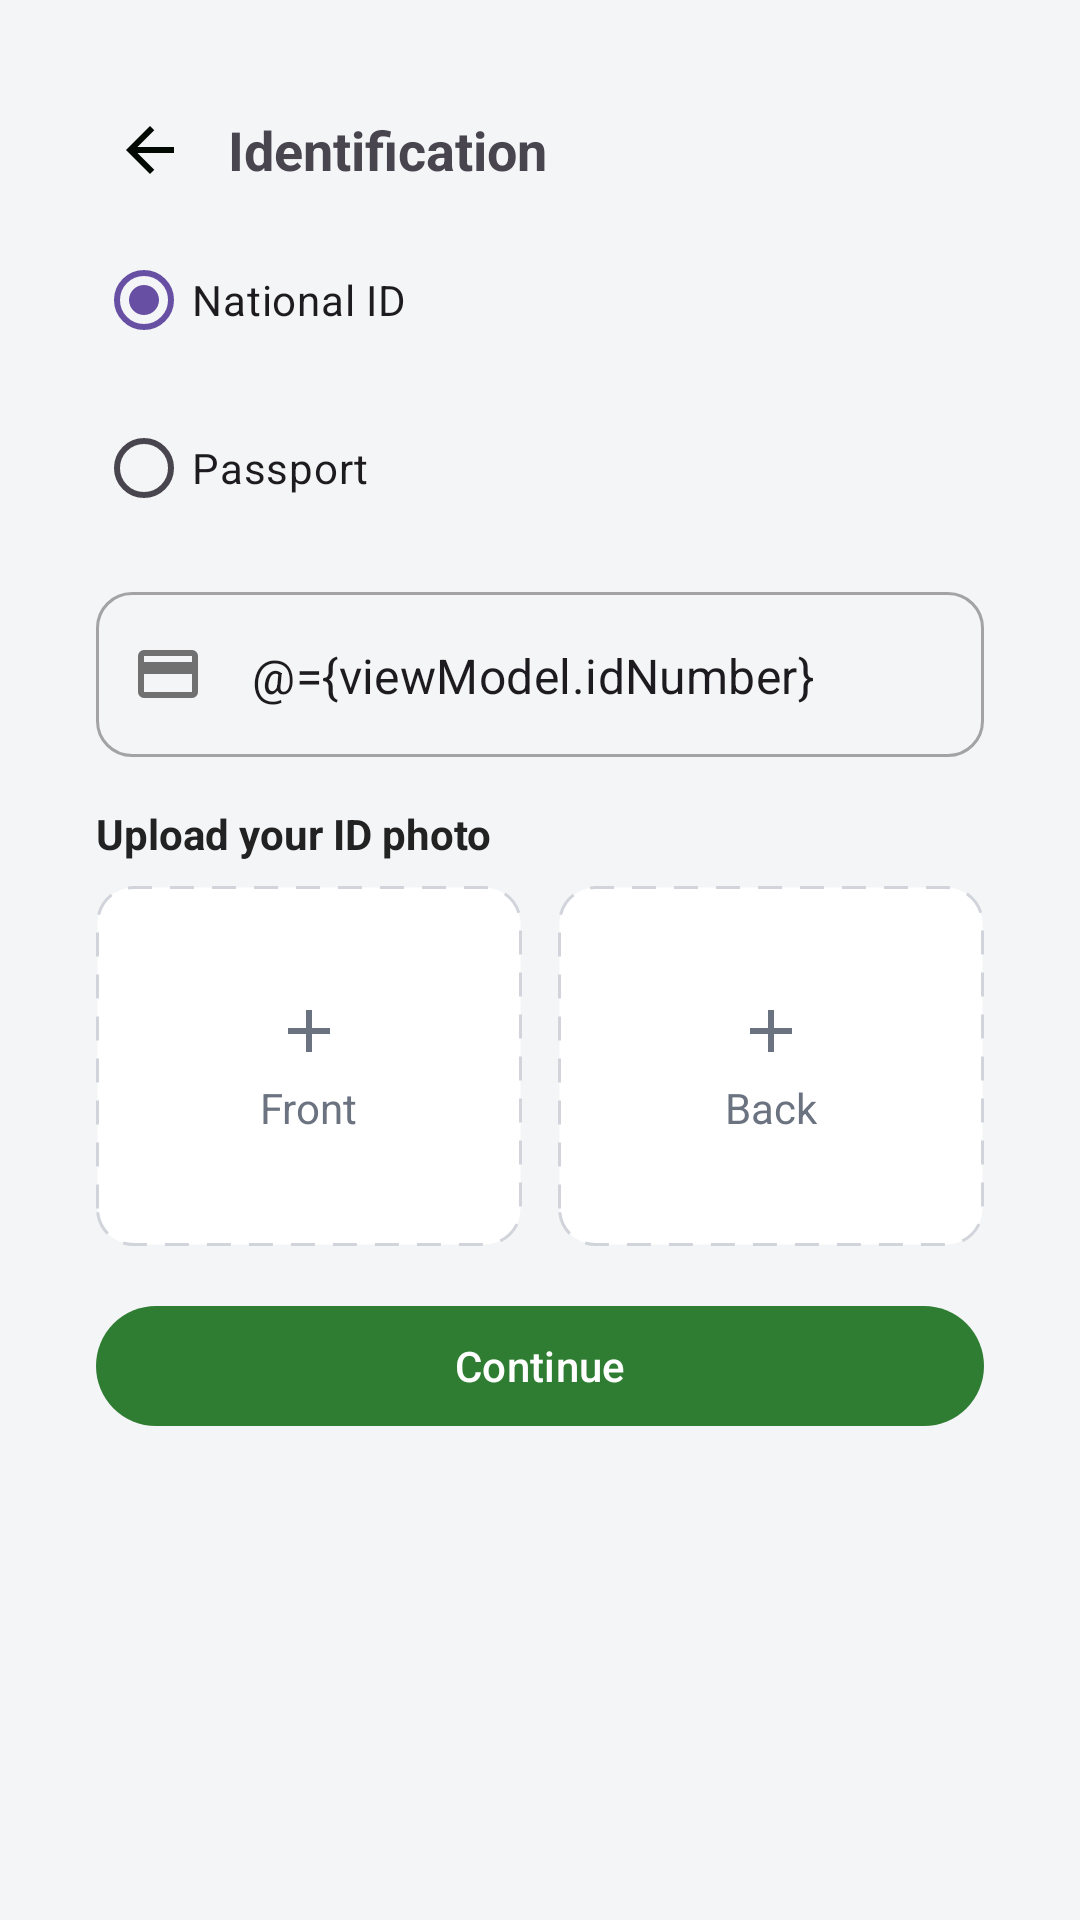

Icon click points for this 1080×1920 phone screenshot, format (x=x, y=y):
Back: (x=150, y=150)
plus: (x=309, y=1031), (x=771, y=1031)
